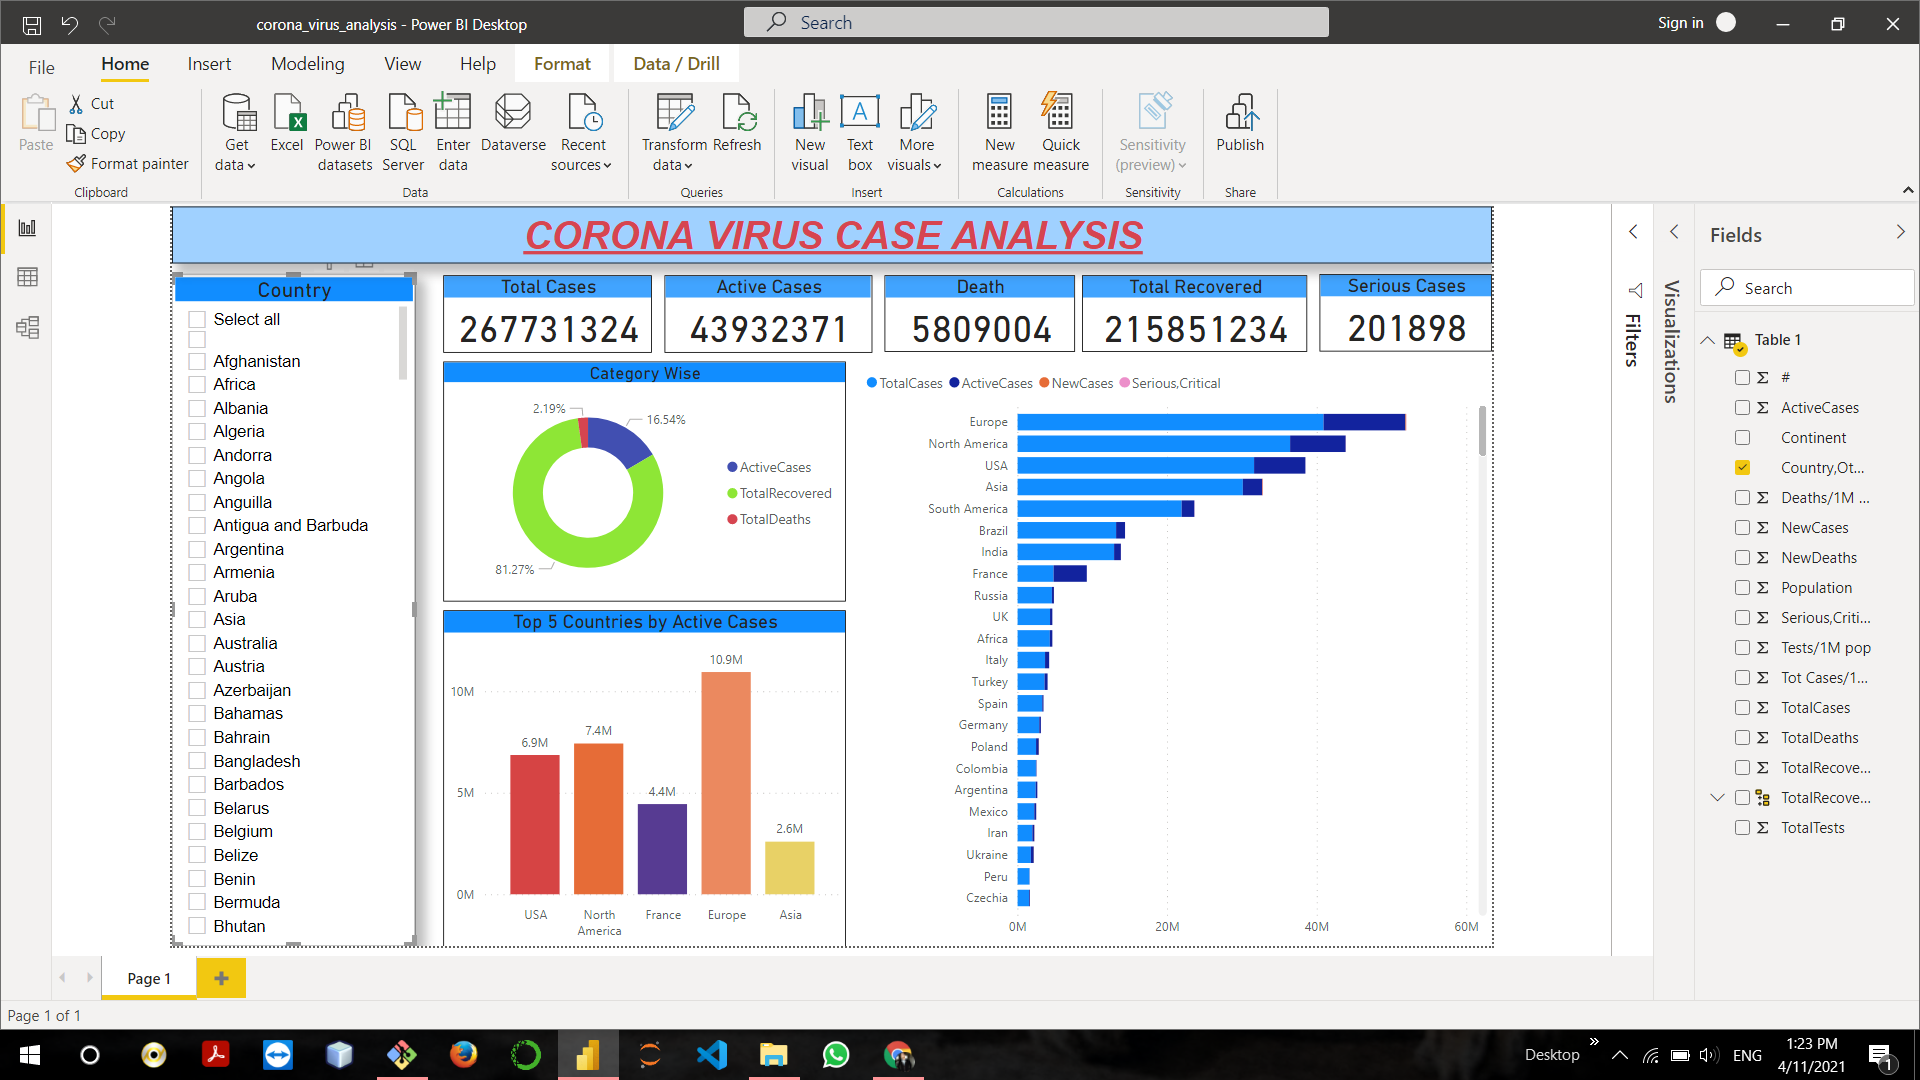

The page's visual inventory and layout, read from the dashboard file:
{"tool":"powerbi","page":{"name":"Page 1","canvas":[1280,720],"ordinal":0},"visuals":[{"type":"slicer","title":"Country","fields":{"Values":["Table 1.Country,Other"]},"box":[0,67.9,236.4,652.1],"z":0},{"type":"card","title":"Total Cases","fields":{"Values":["Sum(Table 1.TotalCases)"]},"box":[263,68.8,202.4,75.2],"z":1000},{"type":"card","title":"Death","fields":{"Values":["Sum(Table 1.TotalDeaths)"]},"box":[690.4,68.8,184.7,74.7],"z":3000},{"type":"card","title":"Total Recovered","fields":{"Values":["Sum(Table 1.TotalRecovered)"]},"box":[883,68.8,218.8,74.7],"z":4000},{"type":"card","title":"Serious Cases","fields":{"Values":["Sum(Table 1.Serious,Critical)"]},"box":[1112.7,68.4,167.3,75.2],"z":5000},{"type":"donutChart","title":"Category Wise","fields":{"Y":["Sum(Table 1.ActiveCases)","Sum(Table 1.TotalRecovered)","Sum(Table 1.TotalDeaths)"]},"box":[263,152.7,390.3,232.7],"z":6000},{"type":"clusteredColumnChart","title":"Top 5 Countries by Active Cases","fields":{"Category":["Table 1.Country,Other"],"Y":["Sum(Table 1.ActiveCases)"]},"box":[263,393.9,390.3,326.1],"z":7000},{"type":"barChart","fields":{"Category":["Table 1.Country,Other"],"Y":["Sum(Table 1.TotalCases)","Sum(Table 1.ActiveCases)","Sum(Table 1.NewCases)","Sum(Table 1.Serious,Critical)"]},"box":[667.9,152.7,612.1,567.3],"z":8000},{"type":"card","title":"Active Cases","fields":{"Values":["Sum(Table 1.ActiveCases)"]},"box":[477.6,68.8,201.2,75.2],"z":8001},{"type":"textbox","box":[0,2.6,1280,55],"z":8002}]}

Visuals, with their boxes on the page's 1280x720 design canvas (x1, y1, x2, y2). These are canvas units, not pixel positions in the 1920x1080 screenshot, which may show the page scaled, cropped or inside an application window:
"Country" slicer: region(0, 68, 236, 720)
"Total Cases" card: region(263, 69, 465, 144)
"Death" card: region(690, 69, 875, 144)
"Total Recovered" card: region(883, 69, 1102, 144)
"Serious Cases" card: region(1113, 68, 1280, 144)
"Category Wise" donutChart: region(263, 153, 653, 385)
"Top 5 Countries by Active Cases" clusteredColumnChart: region(263, 394, 653, 720)
barChart - Table 1.Country,Other x Sum(Table 1.TotalCases): region(668, 153, 1280, 720)
"Active Cases" card: region(478, 69, 679, 144)
textbox: region(0, 3, 1280, 58)
